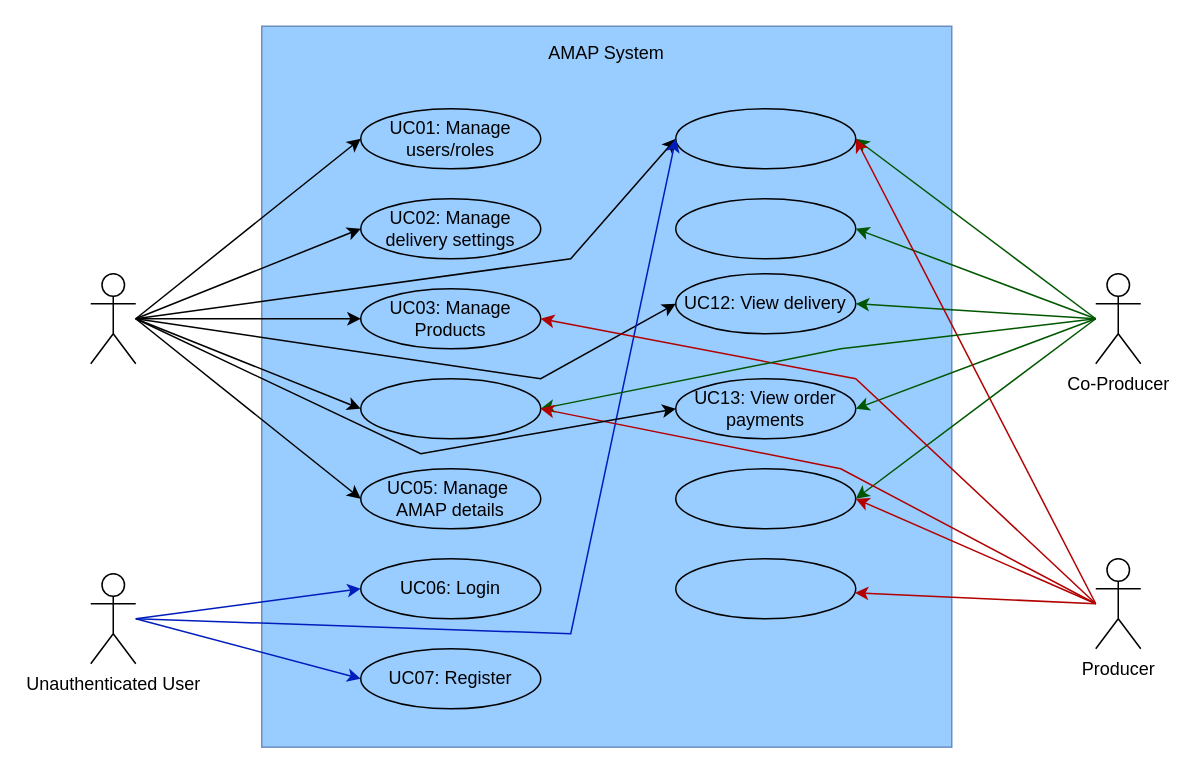
This 1194x774 diagram has some shape labels left out. The shapes that lost their labels are listed below. From the top down, each one's centre as x and y in pixels, then its label:
(765,138): UC08: View/Search Products
(765,228): UC11: View order history
(112,318): AMAP Administrator
(450,408): UC04: View orders
(765,498): UC14: Manage orders
(765,588): UC15: Manage Profile
